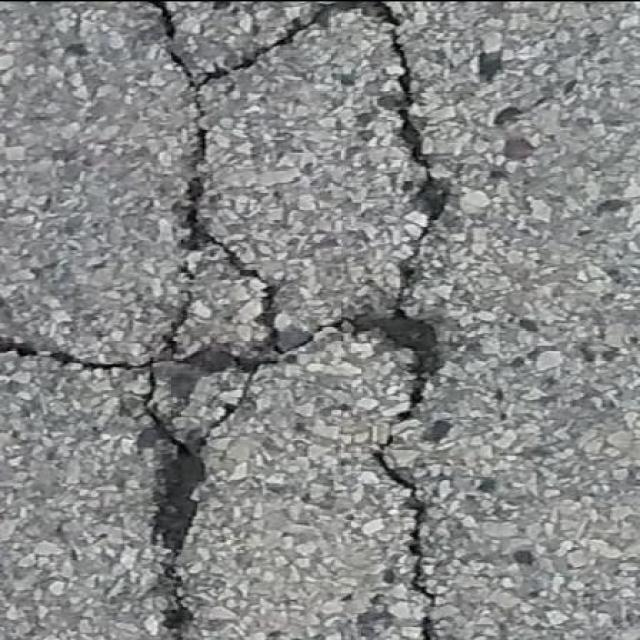Crack: (0, 185, 440, 555), (160, 0, 448, 251), (378, 431, 437, 608), (165, 555, 194, 640), (139, 0, 174, 32), (181, 380, 198, 409), (178, 291, 192, 325), (426, 610, 434, 640)
